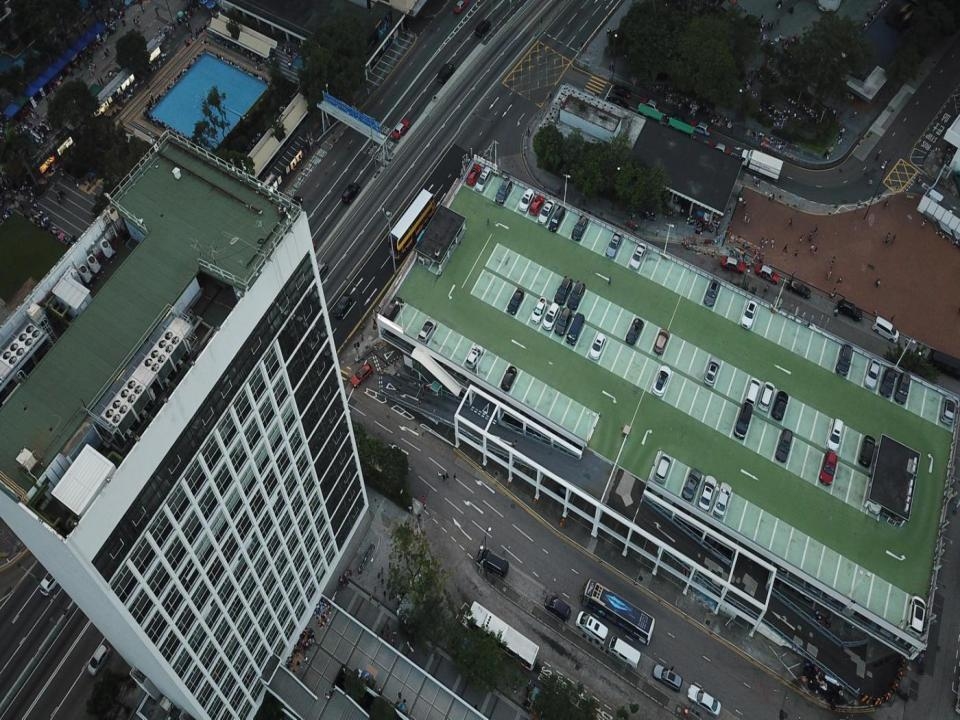bus: (466, 600, 539, 671), (580, 577, 655, 646), (388, 188, 436, 260)
car: (687, 686, 721, 716), (652, 663, 683, 692), (906, 595, 926, 638), (733, 402, 753, 440), (88, 643, 110, 676), (712, 481, 731, 518), (544, 594, 570, 620), (699, 474, 717, 511), (682, 468, 702, 500), (652, 366, 672, 398), (820, 452, 838, 486), (774, 430, 793, 462), (858, 434, 876, 467), (567, 278, 585, 310), (350, 363, 373, 388), (554, 276, 573, 306), (383, 295, 403, 323), (879, 598, 894, 635), (837, 300, 862, 322), (757, 381, 775, 411), (740, 300, 758, 329), (656, 452, 672, 484), (864, 358, 880, 390), (554, 306, 571, 336), (704, 356, 721, 386), (894, 372, 909, 406), (542, 302, 560, 330), (770, 391, 788, 419), (625, 318, 644, 344), (869, 476, 882, 514), (836, 346, 852, 376), (507, 288, 524, 316), (629, 242, 646, 270), (605, 231, 622, 259), (418, 318, 436, 344), (588, 334, 606, 360), (745, 377, 760, 408), (755, 264, 778, 284), (548, 205, 565, 232), (571, 214, 588, 241), (334, 293, 352, 318), (465, 344, 483, 369), (531, 297, 547, 325), (556, 472, 569, 506), (340, 182, 360, 204), (783, 559, 797, 590), (704, 280, 720, 307), (786, 280, 810, 298), (720, 256, 745, 273), (501, 365, 516, 393), (880, 368, 894, 398), (940, 395, 955, 423), (652, 461, 663, 498), (387, 309, 400, 340), (538, 199, 554, 224), (654, 329, 670, 354), (436, 63, 455, 84), (708, 141, 730, 159), (776, 543, 789, 573), (809, 564, 822, 593), (312, 258, 328, 280), (466, 164, 482, 186), (824, 570, 835, 602), (392, 120, 410, 139), (706, 518, 718, 546), (529, 194, 544, 216), (639, 98, 661, 113), (690, 121, 712, 136), (286, 196, 302, 216), (608, 95, 628, 111), (712, 503, 721, 536), (801, 574, 812, 601), (680, 492, 691, 517), (474, 20, 490, 37), (612, 85, 630, 100), (666, 112, 685, 126), (292, 241, 315, 252), (665, 476, 674, 503), (454, 0, 468, 14)
truck: (740, 148, 783, 182)
van: (575, 610, 609, 644), (608, 636, 640, 668), (926, 348, 960, 378), (477, 550, 509, 578), (38, 558, 60, 595), (872, 316, 898, 342), (566, 312, 584, 346), (826, 419, 844, 452), (495, 178, 513, 205), (476, 166, 492, 192), (518, 188, 534, 212)
